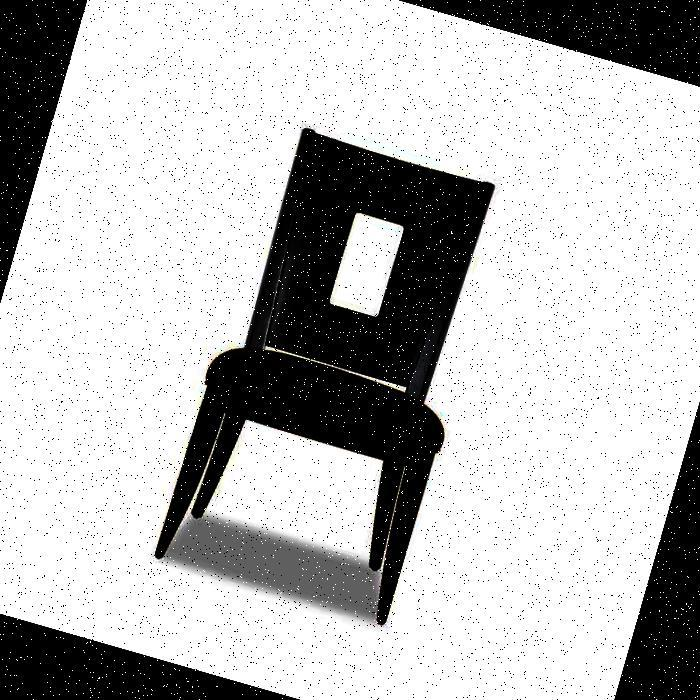Silla: (136, 117, 521, 631)
